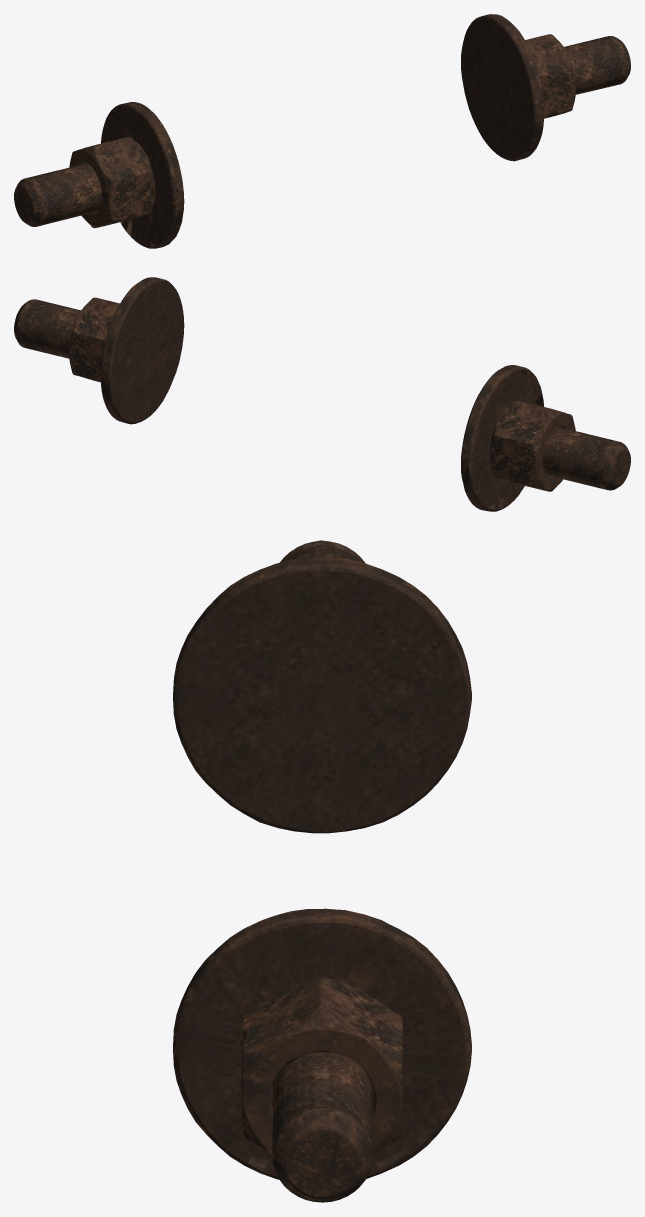
The model's file is ewm_neckbolts.glb.
The picture shows the model from 3 angles, top to bottom: view 1: azimuth 30°, elevation 25°; view 2: azimuth 150°, elevation 25°; view 3: azimuth 270°, elevation 25°; orthographic projection. The views are drawn at different scales.
Parts seen in each view (by area): view 1: ewm_neckbolts; view 2: ewm_neckbolts; view 3: ewm_neckbolts.
Part boxes in pixels (x1,y1,x2,y2): ewm_neckbolts: (14,14,630,248); ewm_neckbolts: (14,277,630,511); ewm_neckbolts: (173,540,471,1202).
Size of the model in its own units: 0.208 by 0.0447 by 0.045.
Materials: 1 (1 with a texture image).
